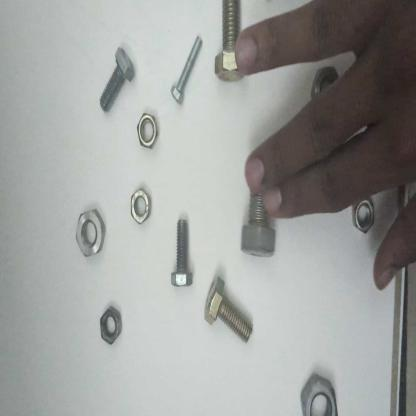Bolts: (202, 266, 257, 348), (168, 33, 205, 112), (210, 0, 244, 84), (96, 46, 137, 113), (168, 210, 199, 294)
NUTS: (297, 365, 342, 416), (73, 204, 108, 267), (96, 294, 124, 350), (351, 195, 379, 241), (127, 185, 152, 231), (132, 108, 158, 152)
